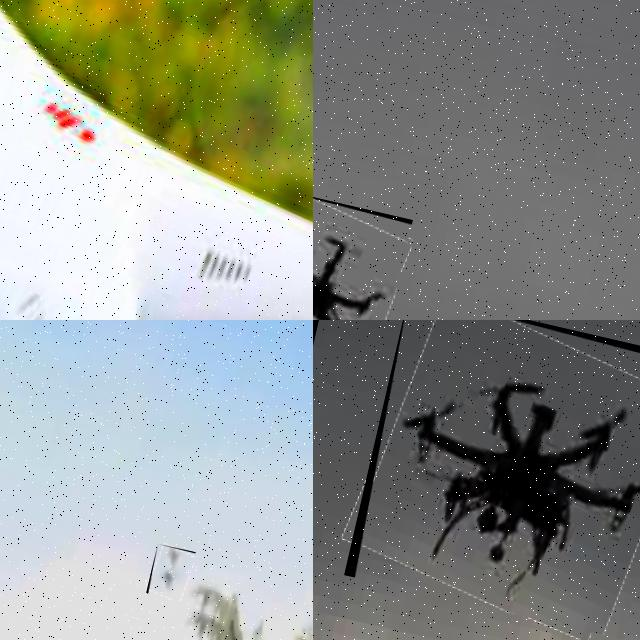drone: (0, 0, 313, 320), (343, 320, 640, 639), (313, 186, 412, 320), (146, 543, 195, 602)
